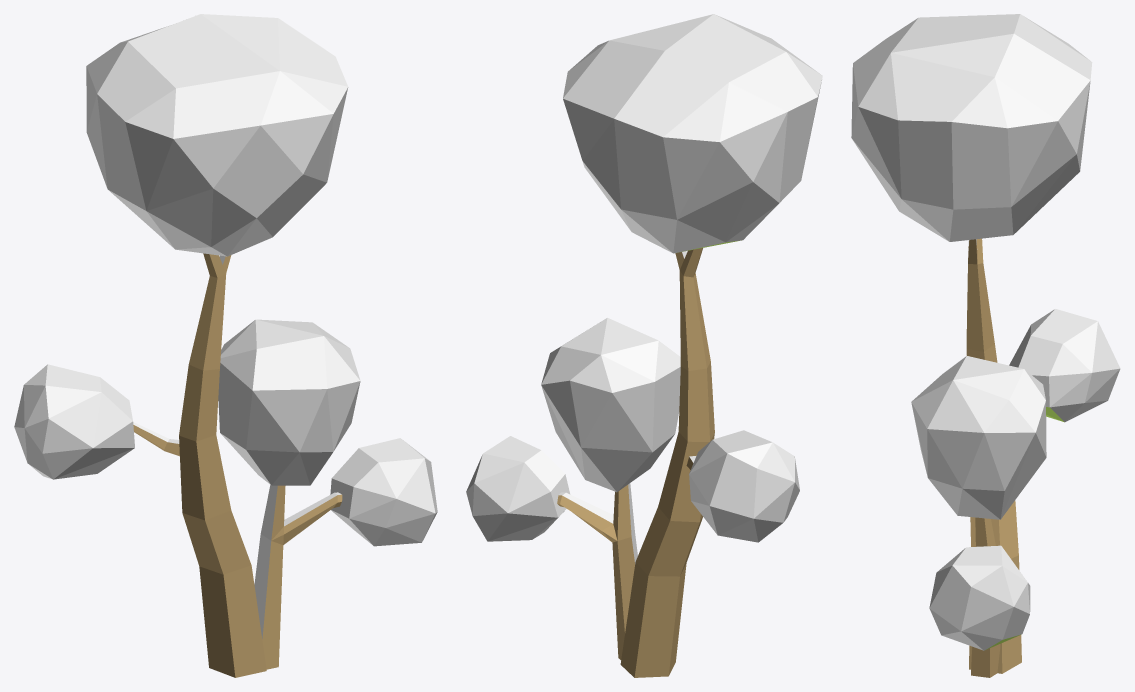
File: Simple_Tree_m_Snow_04_LOD.fbx
3 views of the same model, side by side, from view 1: azimuth 30°, elevation 25°; view 2: azimuth 150°, elevation 25°; view 3: azimuth 270°, elevation 25° (orthographic). The views are drawn at different scales.
Parts seen in each view (by area): view 1: Simple_Tree_m_Snow_04_LOD0; view 2: Simple_Tree_m_Snow_04_LOD0; view 3: Simple_Tree_m_Snow_04_LOD0.
Part boxes in pixels (x1,y1,x2,y2): Simple_Tree_m_Snow_04_LOD0: [14, 14, 437, 677]; Simple_Tree_m_Snow_04_LOD0: [466, 14, 822, 677]; Simple_Tree_m_Snow_04_LOD0: [851, 14, 1120, 677].
Size of what is drawn, in the model's own units: 419 by 714 by 283.
